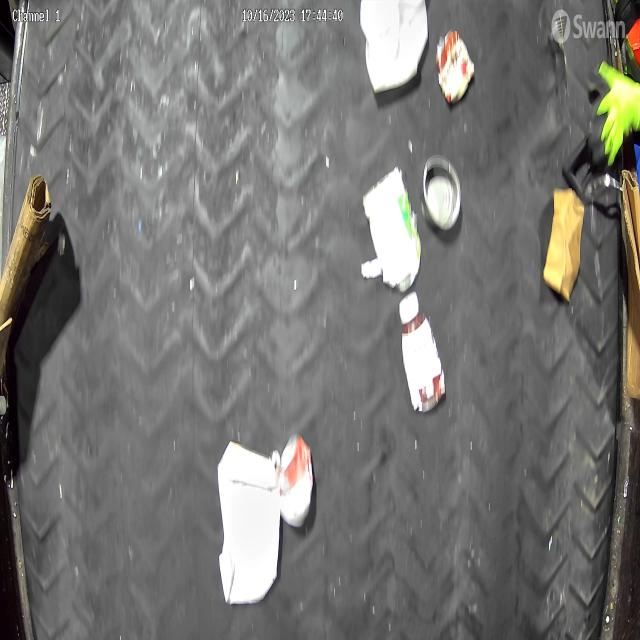can: (420, 146, 465, 236), (280, 427, 314, 531), (438, 24, 473, 98)
milk_jug: (357, 0, 429, 102)
